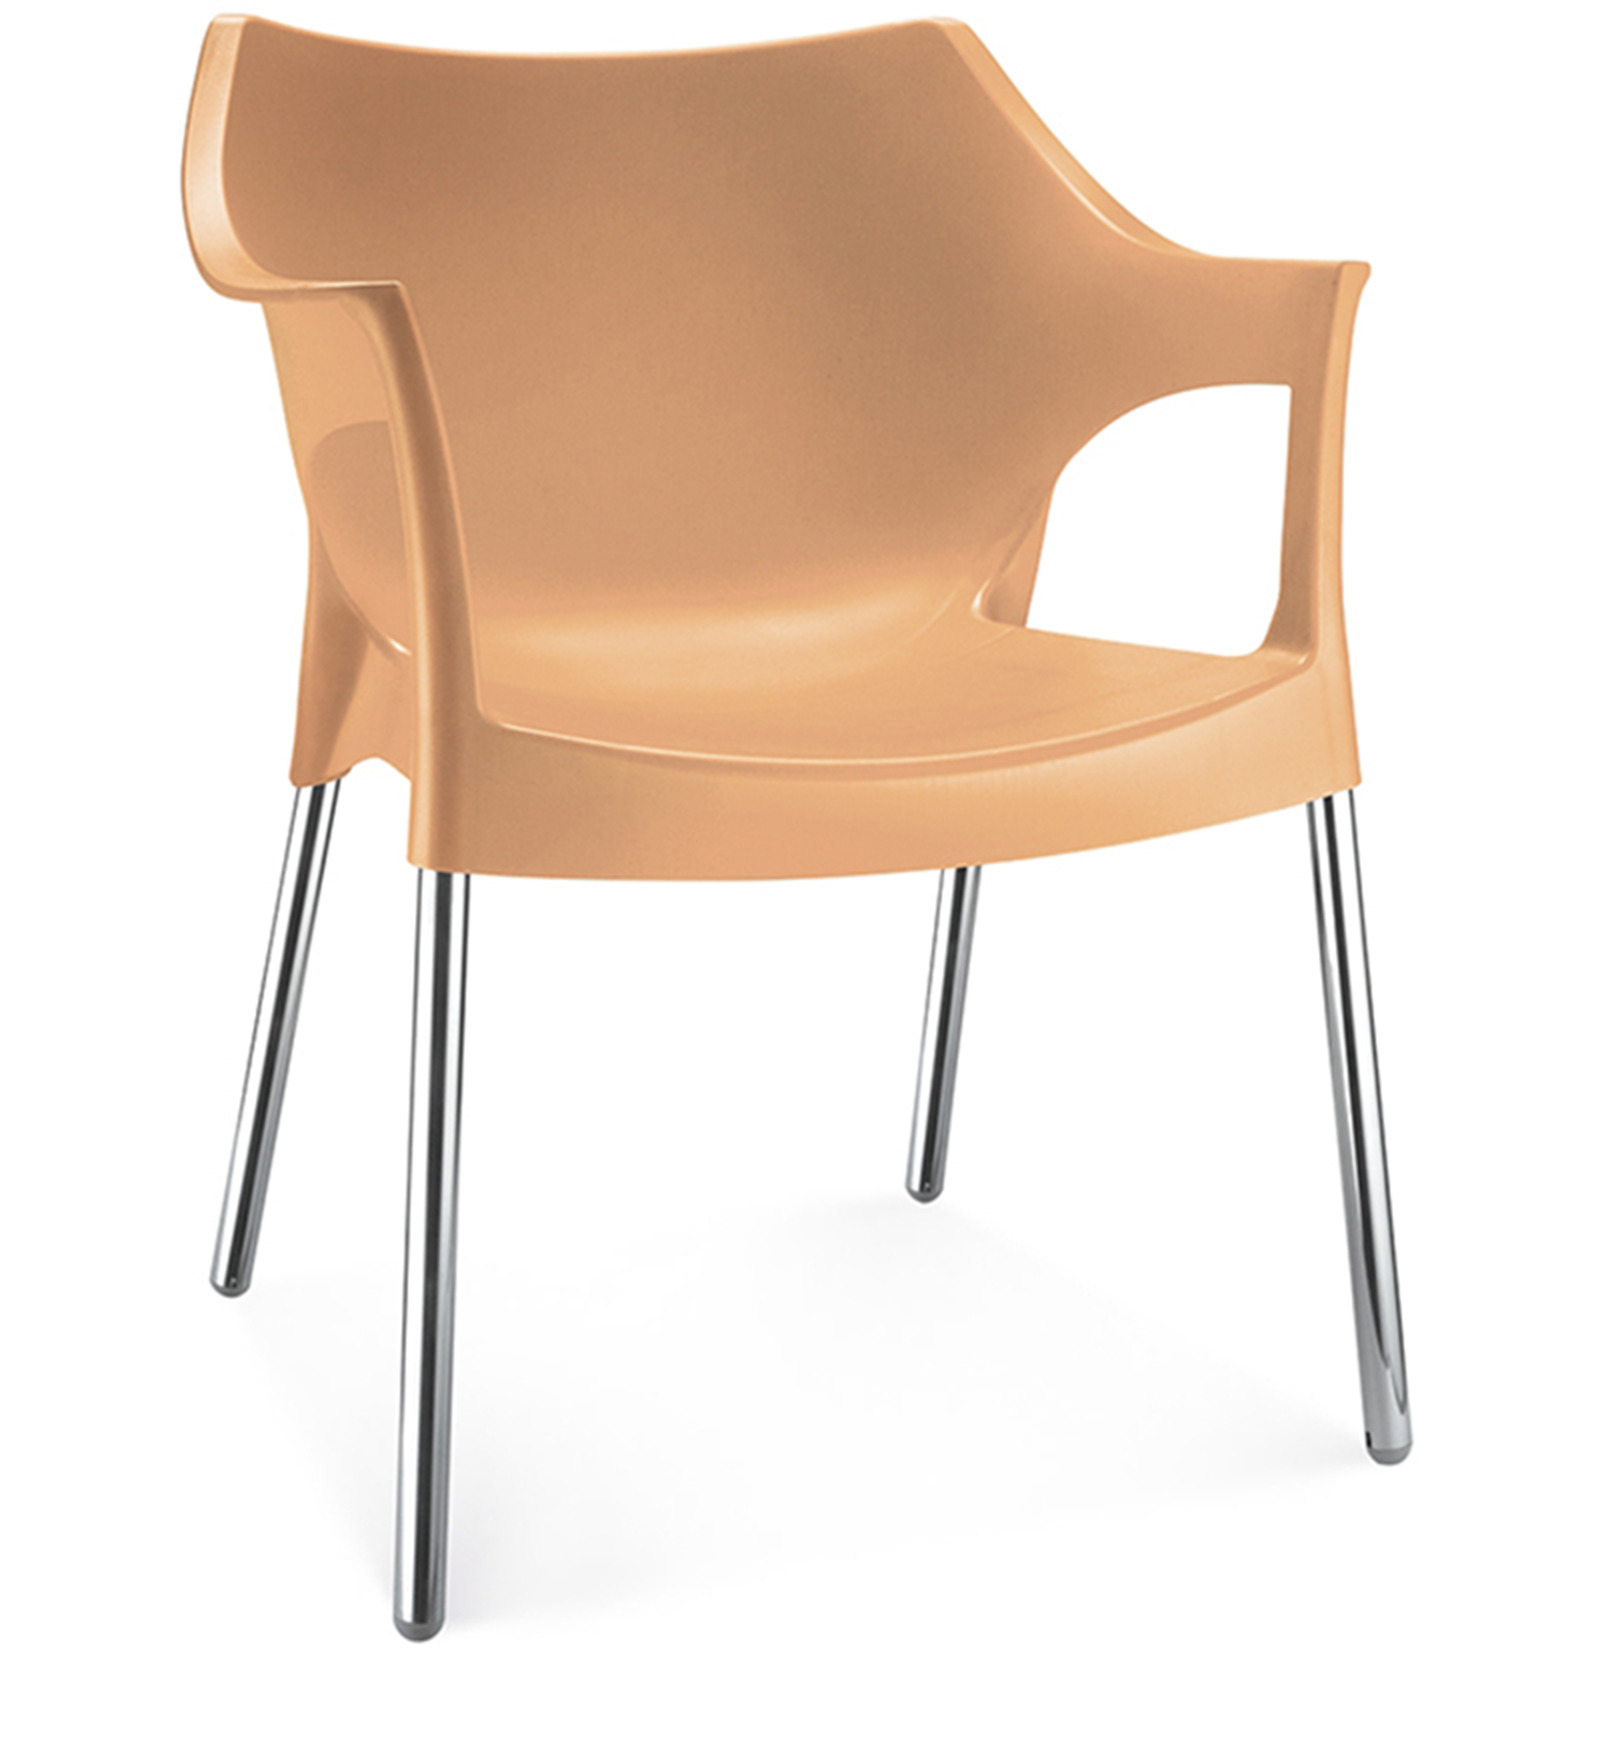Novella Chair in Beige Colour by Nilkamal: (172, 17, 1448, 1640)
